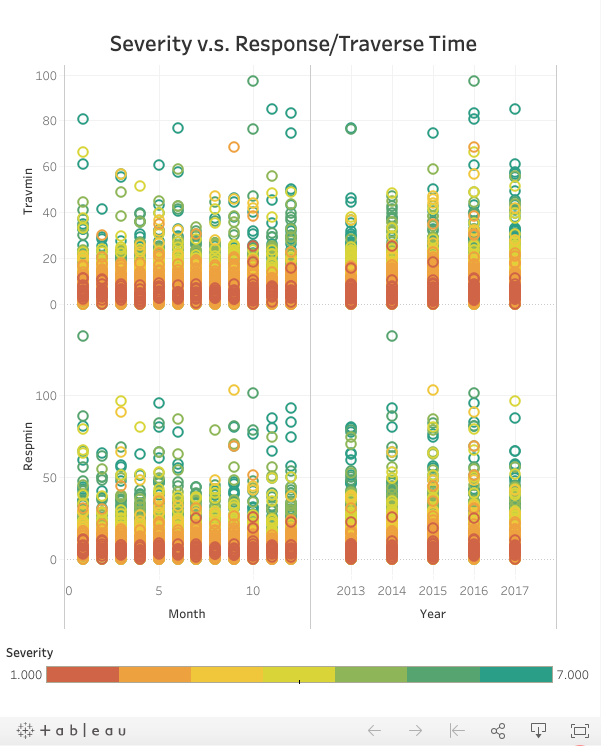

The dashboard page shown, as its layout file describes it:
{"tool":"tableau","page":{"name":"Dashboard 1","canvas":[600,690],"ordinal":0},"visuals":[{"type":"worksheet","title":"Sheet 1","mark":"Shape","rows":["travmin","respmin"],"cols":["MONTH","year"],"box":[4.8,6.9,590.4,611.5]},{"type":"legend","title":"Sheet 1","param":"[federated.1r386280mhq0gq1dylxgv10yi3o3].[none:sevlev:qk]","box":[4.8,618.4,590.4,64.7]}]}

Visuals, with their boxes on the page's 600x690 design canvas (x1, y1, x2, y2). These are canvas units, not pixel positions in the 601x746 screenshot, which may show the page scaled, cropped or inside an application window:
"Sheet 1" worksheet (Shape marks): locate(5, 7, 595, 618)
"Sheet 1" legend: locate(5, 618, 595, 683)
